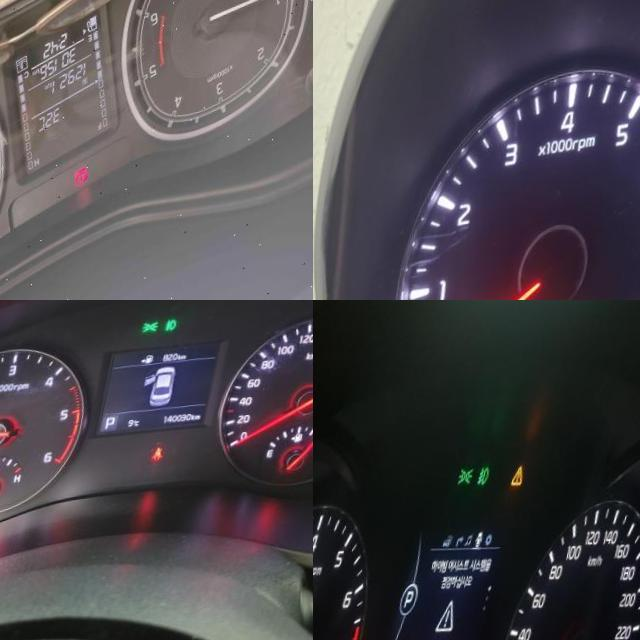Central Warning lamp: (518, 471, 534, 495)
FrontFogLight: (484, 471, 498, 494), (174, 325, 187, 338)
SideLamp: (463, 472, 482, 493), (151, 327, 169, 339)
